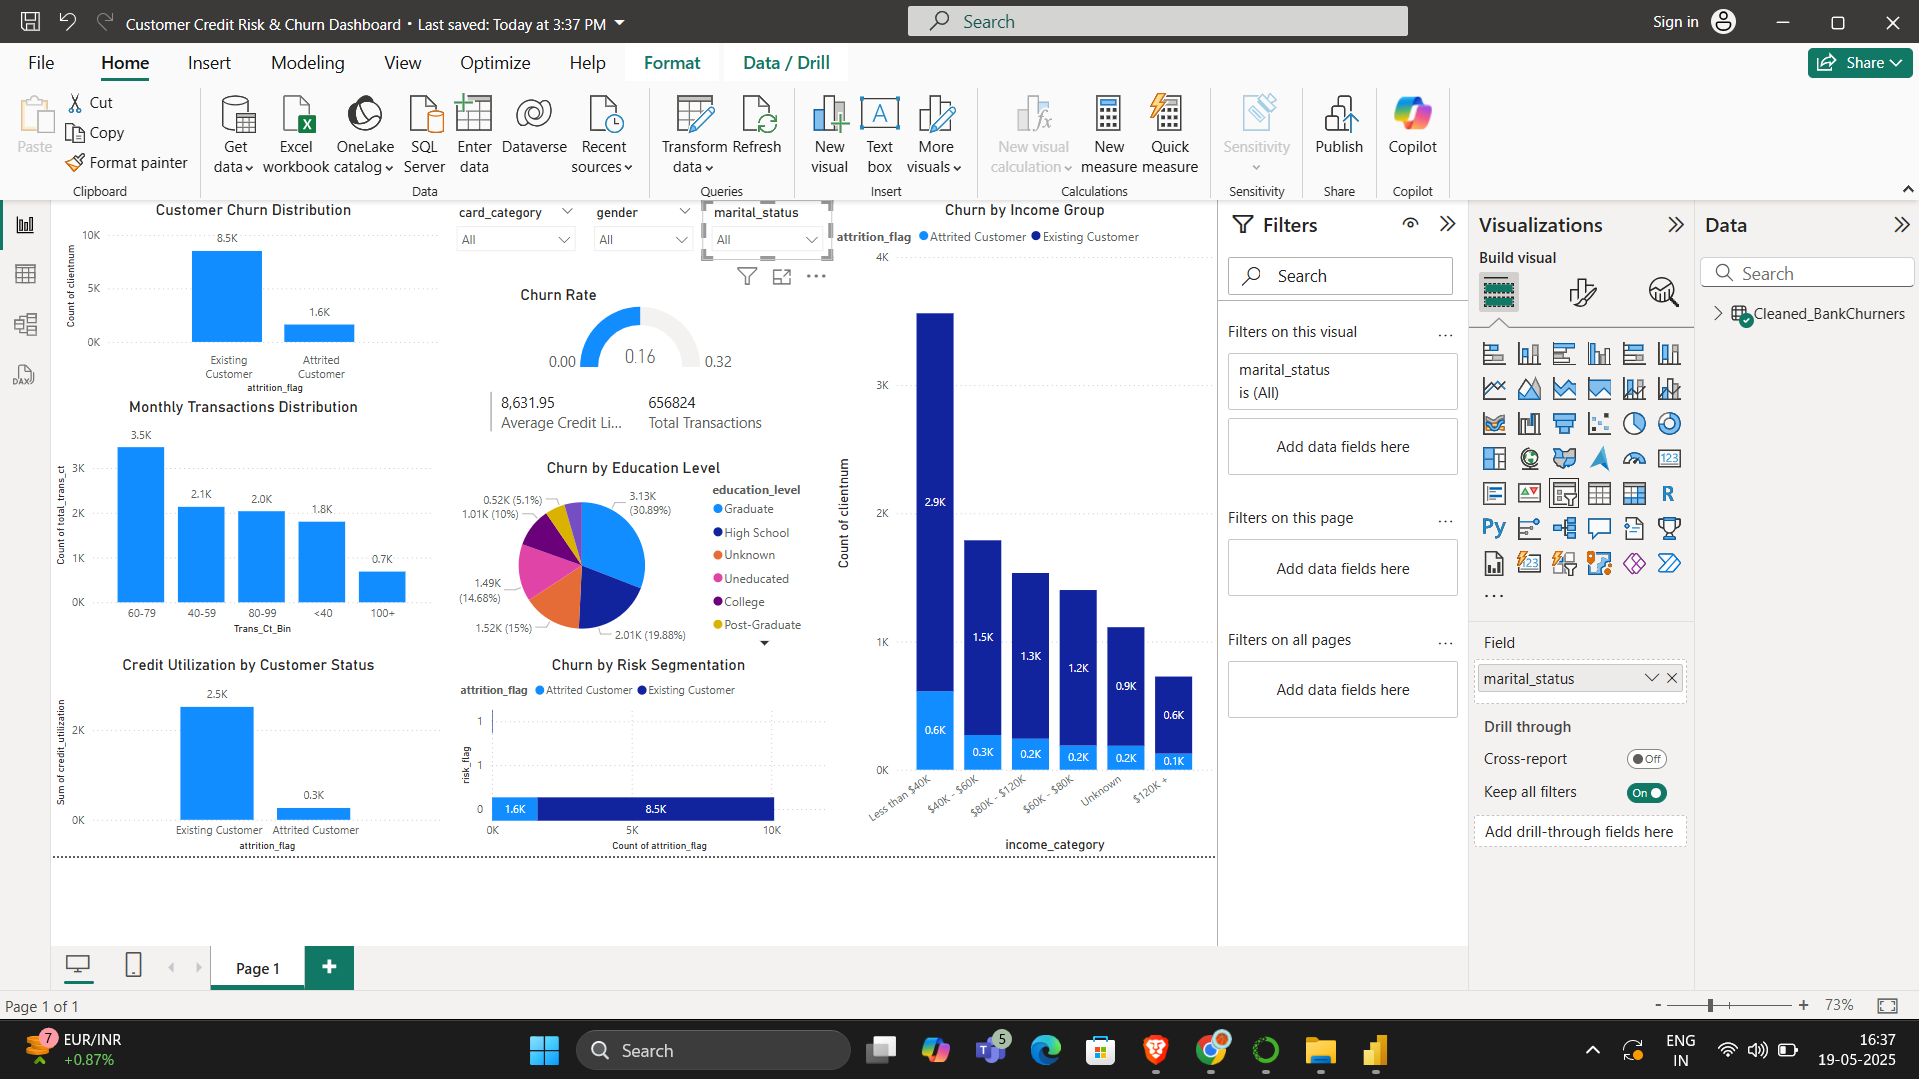

The dashboard page shown, as its layout file describes it:
{"tool":"powerbi","page":{"name":"Page 1","canvas":[1280,720],"ordinal":0},"visuals":[{"type":"clusteredColumnChart","title":"Credit Utilization by Customer Status","fields":{"Category":["Cleaned_BankChurners.attrition_flag"],"Y":["Sum(Cleaned_BankChurners.credit_utilization)"]},"box":[0,499.5,433.6,220.9],"z":0},{"type":"clusteredColumnChart","title":"Customer Churn Distribution","fields":{"Category":["Cleaned_BankChurners.attrition_flag"],"Y":["CountNonNull(Cleaned_BankChurners.clientnum)"]},"box":[11,0,422.6,216.8],"z":1000},{"type":"barChart","title":"Churn by Risk Segmentation","fields":{"Y":["CountNonNull(Cleaned_BankChurners.attrition_flag)"],"Category":["Cleaned_BankChurners.risk_flag"],"Series":["Cleaned_BankChurners.attrition_flag"]},"box":[444.6,499.5,422.6,220.9],"z":2000},{"type":"clusteredColumnChart","title":"Monthly Transactions Distribution","fields":{"Category":["Cleaned_BankChurners.Trans_Ct_Bin"],"Y":["CountNonNull(Cleaned_BankChurners.total_trans_ct)"]},"box":[0,216.8,422.6,264.8],"z":3000},{"type":"columnChart","title":"Churn by Income Group","fields":{"Category":["Cleaned_BankChurners.income_category"],"Series":["Cleaned_BankChurners.attrition_flag"],"Y":["CountNonNull(Cleaned_BankChurners.clientnum)"]},"box":[857.6,0,422.6,720.4],"z":4000},{"type":"pieChart","title":"Churn by Education Level","fields":{"Category":["Cleaned_BankChurners.education_level"],"Y":["CountNonNull(Cleaned_BankChurners.attrition_flag)"]},"box":[435,284,408.9,215.4],"z":5000},{"type":"slicer","fields":{"Values":["Cleaned_BankChurners.card_category"]},"box":[435,0,150.9,76.8],"z":6000},{"type":"slicer","fields":{"Values":["Cleaned_BankChurners.gender"]},"box":[585.9,0,129,76.8],"z":7000},{"type":"slicer","fields":{"Values":["Cleaned_BankChurners.marital_status"]},"box":[714.9,0,142.7,65.9],"z":8000},{"type":"multiRowCard","fields":{"Values":["Cleaned_BankChurners.Average Credit Limit","Cleaned_BankChurners.Total Transactions"]},"box":[477.5,205.8,344.4,59],"z":10000},{"type":"gauge","fields":{"Y":["Cleaned_BankChurners.Churn Rate"]},"box":[510.5,93.3,273.1,100.2],"z":10001}]}

Visuals, with their boxes on the page's 1280x720 design canvas (x1, y1, x2, y2). These are canvas units, not pixel positions in the 1919x1079 screenshot, which may show the page scaled, cropped or inside an application window:
"Credit Utilization by Customer Status" clusteredColumnChart: left=0, top=500, right=434, bottom=720
"Customer Churn Distribution" clusteredColumnChart: left=11, top=0, right=434, bottom=217
"Churn by Risk Segmentation" barChart: left=445, top=500, right=867, bottom=720
"Monthly Transactions Distribution" clusteredColumnChart: left=0, top=217, right=423, bottom=482
"Churn by Income Group" columnChart: left=858, top=0, right=1280, bottom=720
"Churn by Education Level" pieChart: left=435, top=284, right=844, bottom=499
slicer - Cleaned_BankChurners.card_category: left=435, top=0, right=586, bottom=77
slicer - Cleaned_BankChurners.gender: left=586, top=0, right=715, bottom=77
slicer - Cleaned_BankChurners.marital_status: left=715, top=0, right=858, bottom=66
multiRowCard - Cleaned_BankChurners.Average Credit Limit x Cleaned_BankChurners.Total Transactions: left=478, top=206, right=822, bottom=265
gauge - Cleaned_BankChurners.Churn Rate: left=510, top=93, right=784, bottom=194
